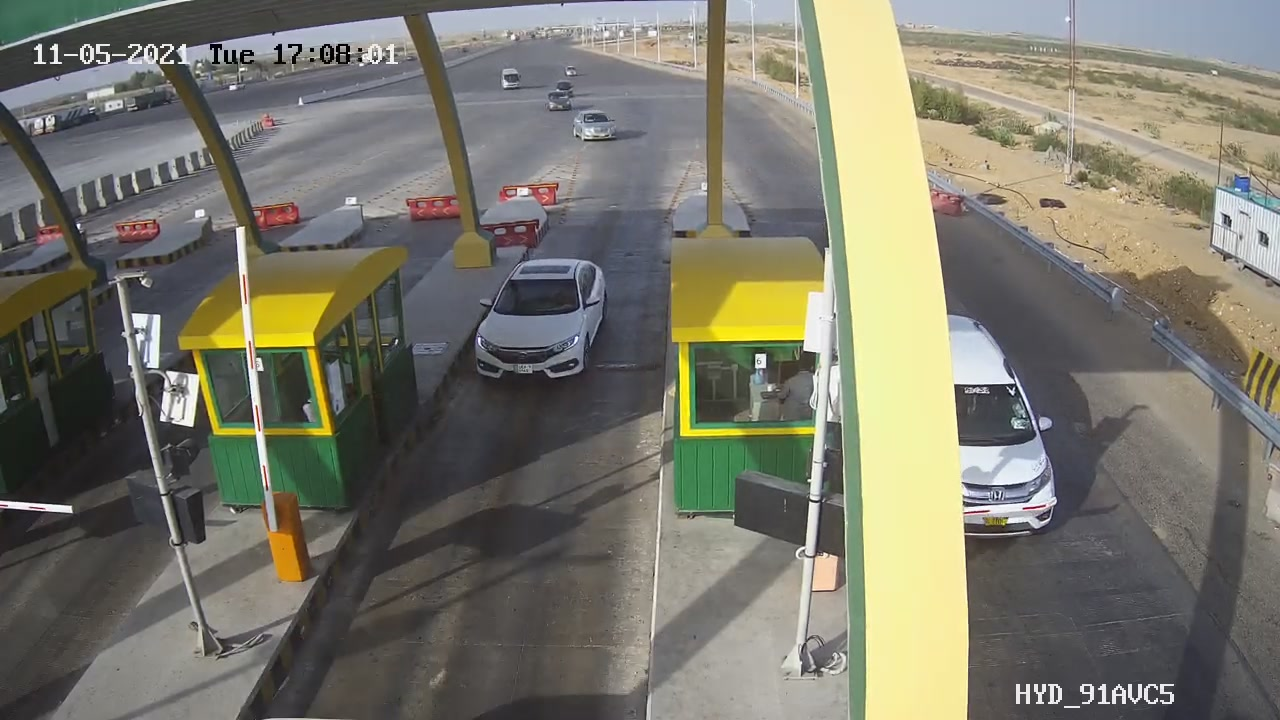F1: (455, 242, 626, 394)
